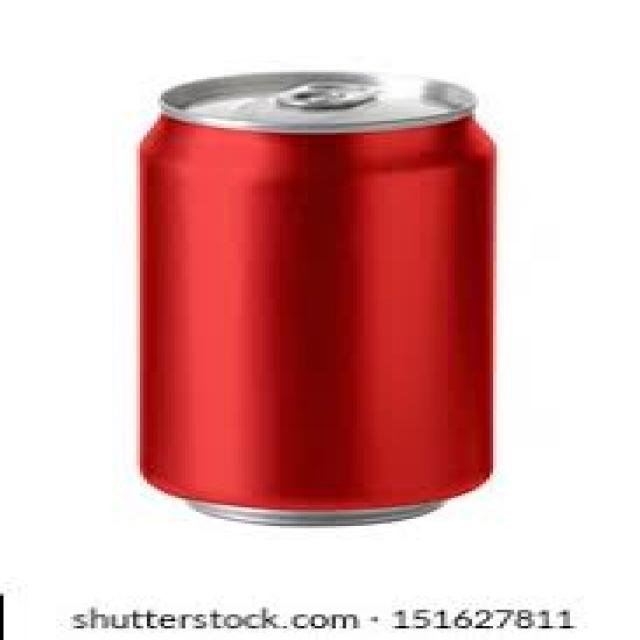Cans: (119, 44, 511, 531)
